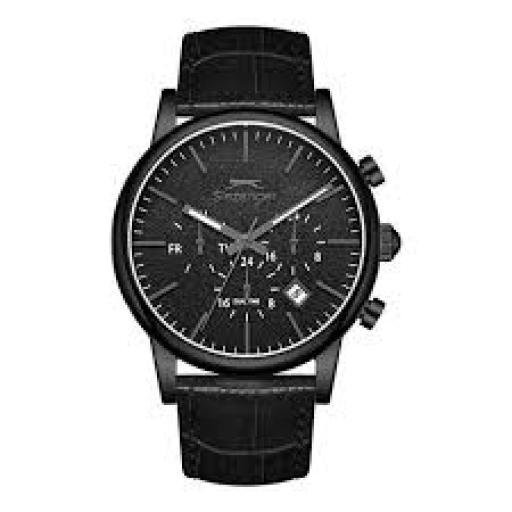KolSaati: (102, 10, 412, 488)
